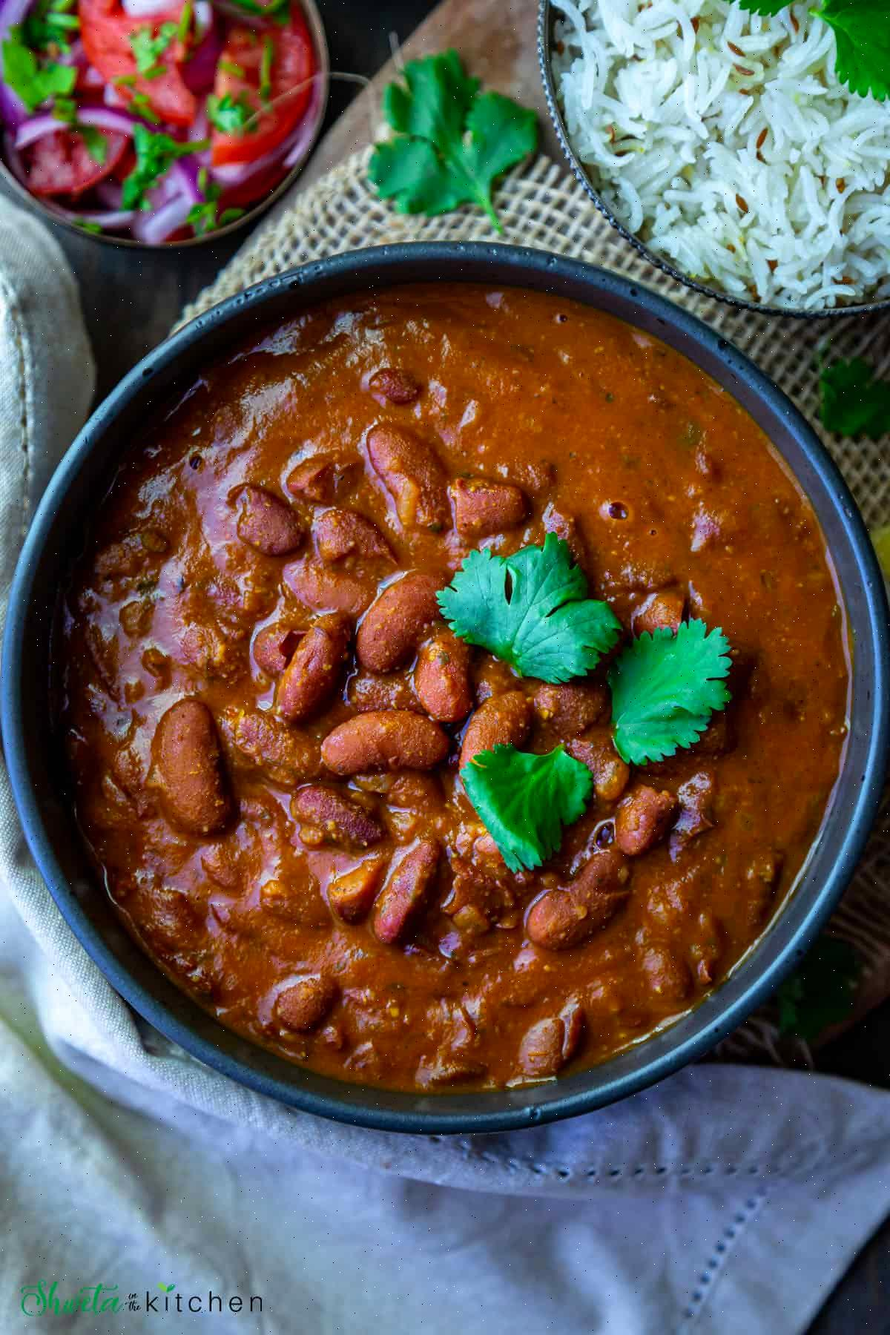rajma: (59, 308, 805, 1001)
